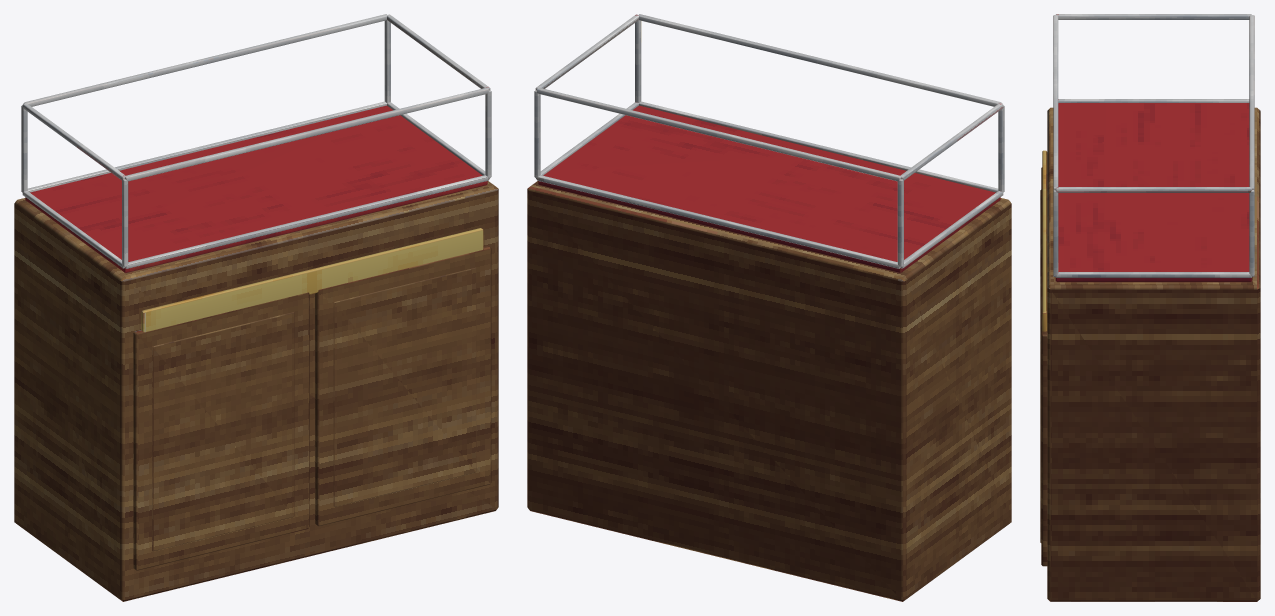
The model's file is display_case.glb.
3 views of the same model, side by side, from view 1: azimuth 30°, elevation 25°; view 2: azimuth 150°, elevation 25°; view 3: azimuth 270°, elevation 25° (orthographic). The views are drawn at different scales.
Visible parts, largest first — view 1: mesh; view 2: mesh; view 3: mesh.
Part boxes in pixels (x1=…): mesh: x1=14, y1=14, x2=498, y2=601; mesh: x1=527, y1=14, x2=1011, y2=601; mesh: x1=1040, y1=14, x2=1260, y2=601.
Size of the model in its own units: 1 by 1.07 by 0.516.
1 material, 1 textured.
